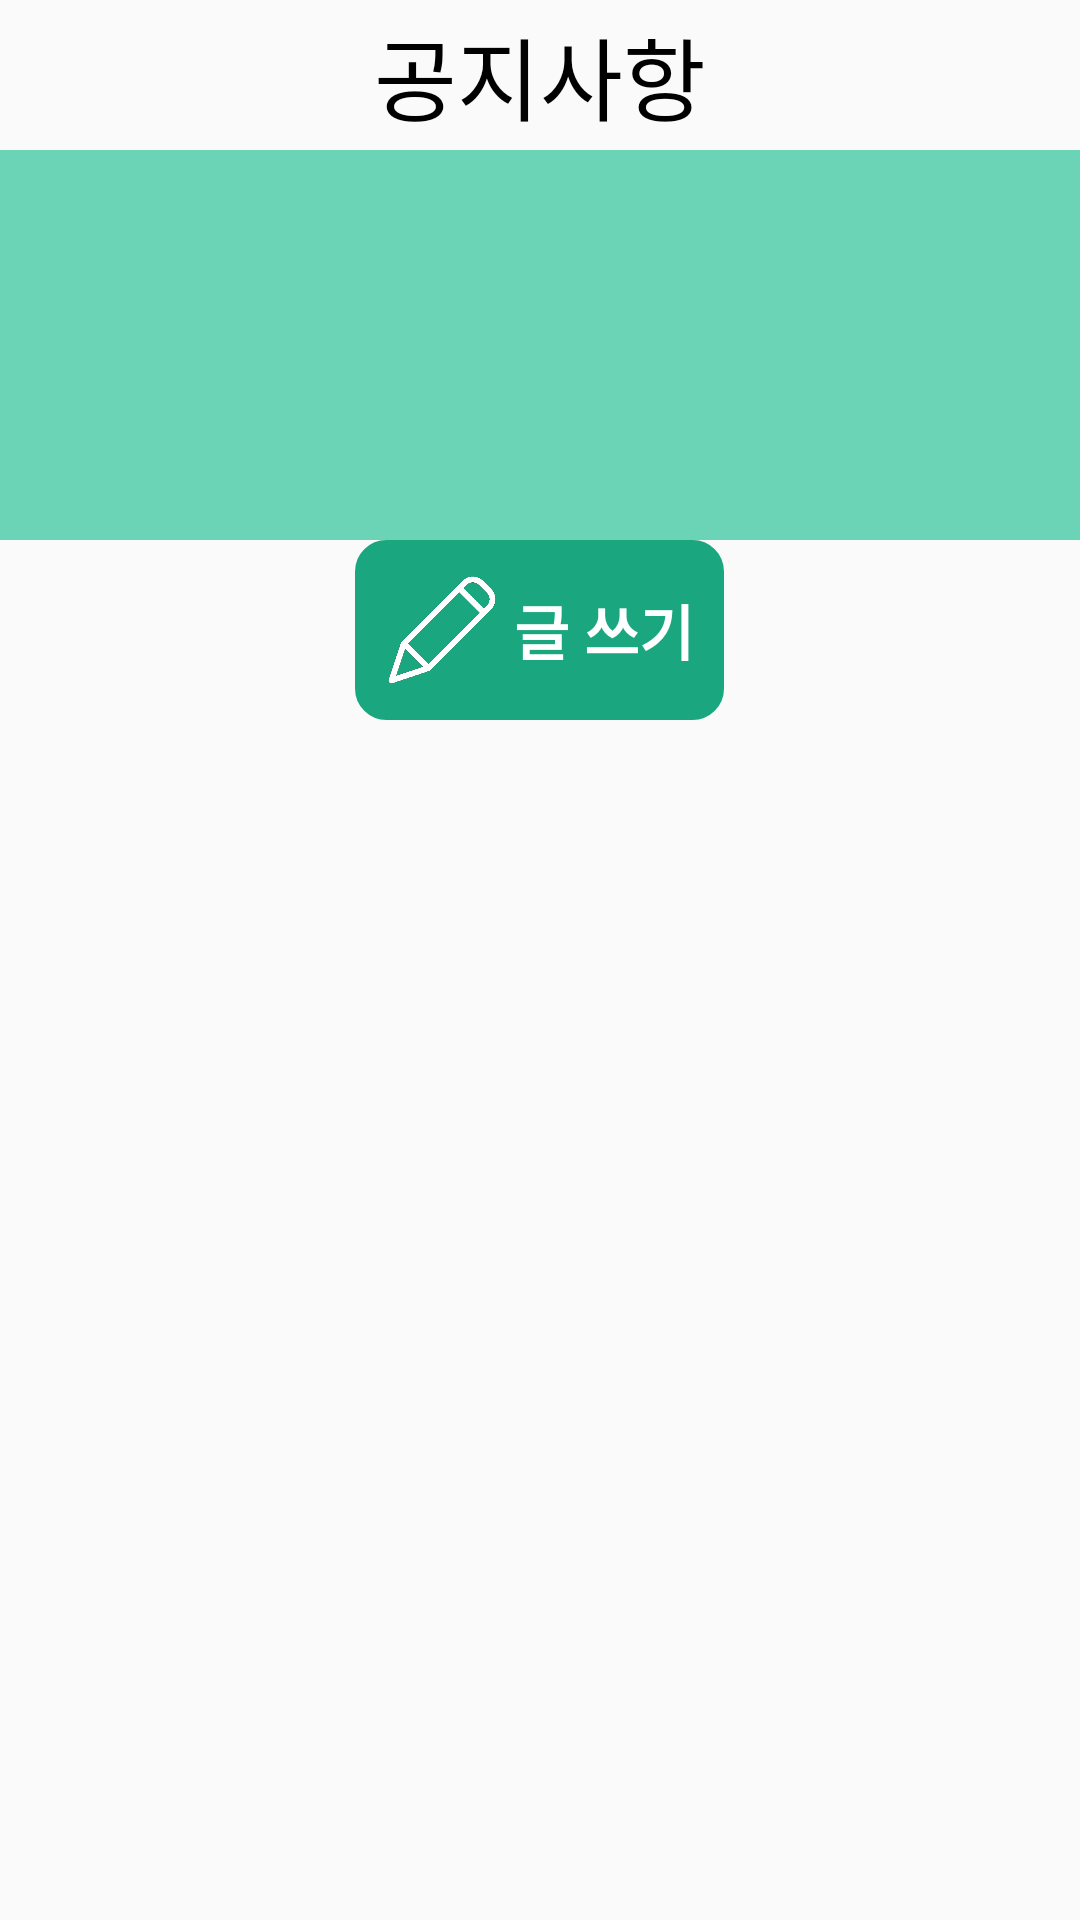

Locate icon controls on the screen. Image size 1080*1920, boxes as (x1, y1, x2, y2).
pencil: (388, 576, 496, 683)
